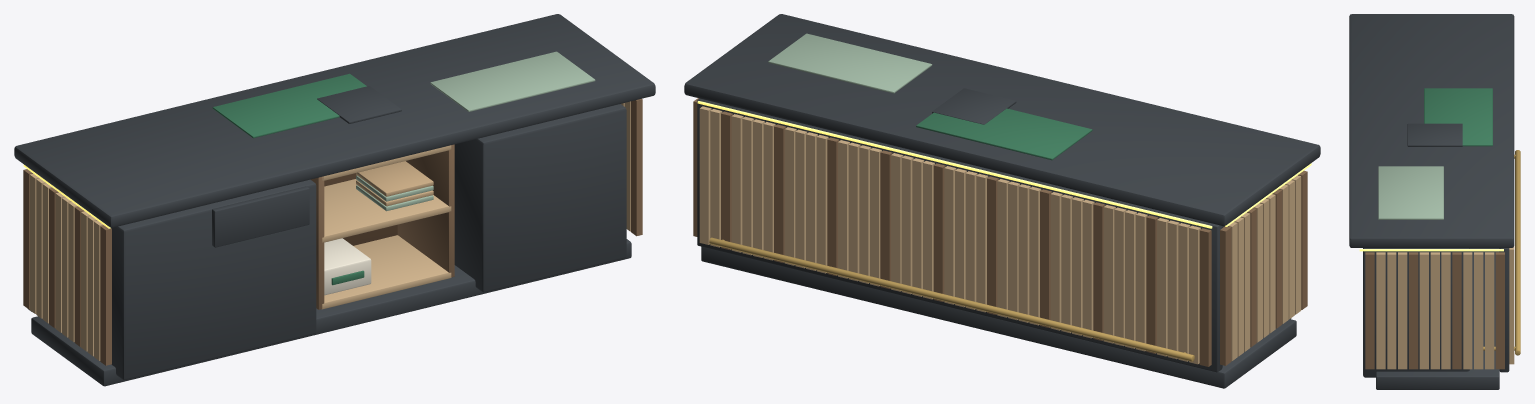
The model's file is checkout_counter.glb.
The picture shows the model from 3 angles, left to right: view 1: azimuth 30°, elevation 25°; view 2: azimuth 150°, elevation 25°; view 3: azimuth 270°, elevation 25°; orthographic projection. The views are drawn at different scales.
Visible parts, largest first — view 1: CounterTop, StaffCabinetLeft, StaffCabinetRight, CounterPlinth, BaggingInlay, StagingInlay, StaffShelfFloor, DrawerBay, StaffShelfMid, StaffShelfSideR, StaffReceiptStock, ScannerInlay (+19 smaller); view 2: CounterTop, CounterPlinth, CustomerApronBacking, BaggingInlay, StagingInlay, CustomerFootRail, CounterLEDFront, CustomerOakSlat_01, ScannerInlay, EndOakSlat_L_13, CustomerOakSlat_48, CustomerOakSlat_07 (+58 smaller); view 3: CounterTop, StaffCabinetRight, BaggingInlay, StagingInlay, CounterPlinth, ScannerInlay, CustomerFootRail, EndOakSlat_R_01, EndOakSlat_R_02, EndOakSlat_R_08, EndOakSlat_R_09, EndOakSlat_R_03 (+11 smaller).
Boxes of the visible parts, x1,y1,x2,y2 form: CounterTop: (14,14,655,227); StaffCabinetLeft: (111,179,316,379); StaffCabinetRight: (454,104,626,292); CounterPlinth: (31,239,631,386); BaggingInlay: (430,51,595,111); StagingInlay: (212,73,366,138); StaffShelfFloor: (321,235,451,309); DrawerBay: (212,186,309,247); StaffShelfMid: (322,179,451,242); StaffShelfSideR: (397,144,454,277); StaffReceiptStock: (324,238,371,295); ScannerInlay: (317,86,401,123); CounterTop: (684,14,1320,225); CounterPlinth: (701,246,1296,388); CustomerApronBacking: (697,98,1222,372); BaggingInlay: (768,33,932,93); StagingInlay: (916,108,1092,160); CustomerFootRail: (709,237,1194,361); CounterLEDFront: (697,101,1212,228); CustomerOakSlat_01: (1199,228,1211,366); ScannerInlay: (932,88,1016,124); EndOakSlat_L_13: (1220,226,1231,365); CustomerOakSlat_48: (699,106,711,244); CustomerOakSlat_07: (1135,212,1147,351); CounterTop: (1349,14,1514,247); StaffCabinetRight: (1363,248,1469,377); BaggingInlay: (1378,166,1443,219); StagingInlay: (1424,88,1492,146); CounterPlinth: (1376,248,1499,389); ScannerInlay: (1407,123,1462,146); CustomerFootRail: (1515,150,1520,355); EndOakSlat_R_01: (1365,252,1374,369); EndOakSlat_R_02: (1376,252,1385,369); EndOakSlat_R_08: (1441,252,1450,369); EndOakSlat_R_09: (1452,252,1461,369); EndOakSlat_R_03: (1387,252,1396,369).
Bounding box in the file's own units: 3.1 × 1.01 × 0.997.
